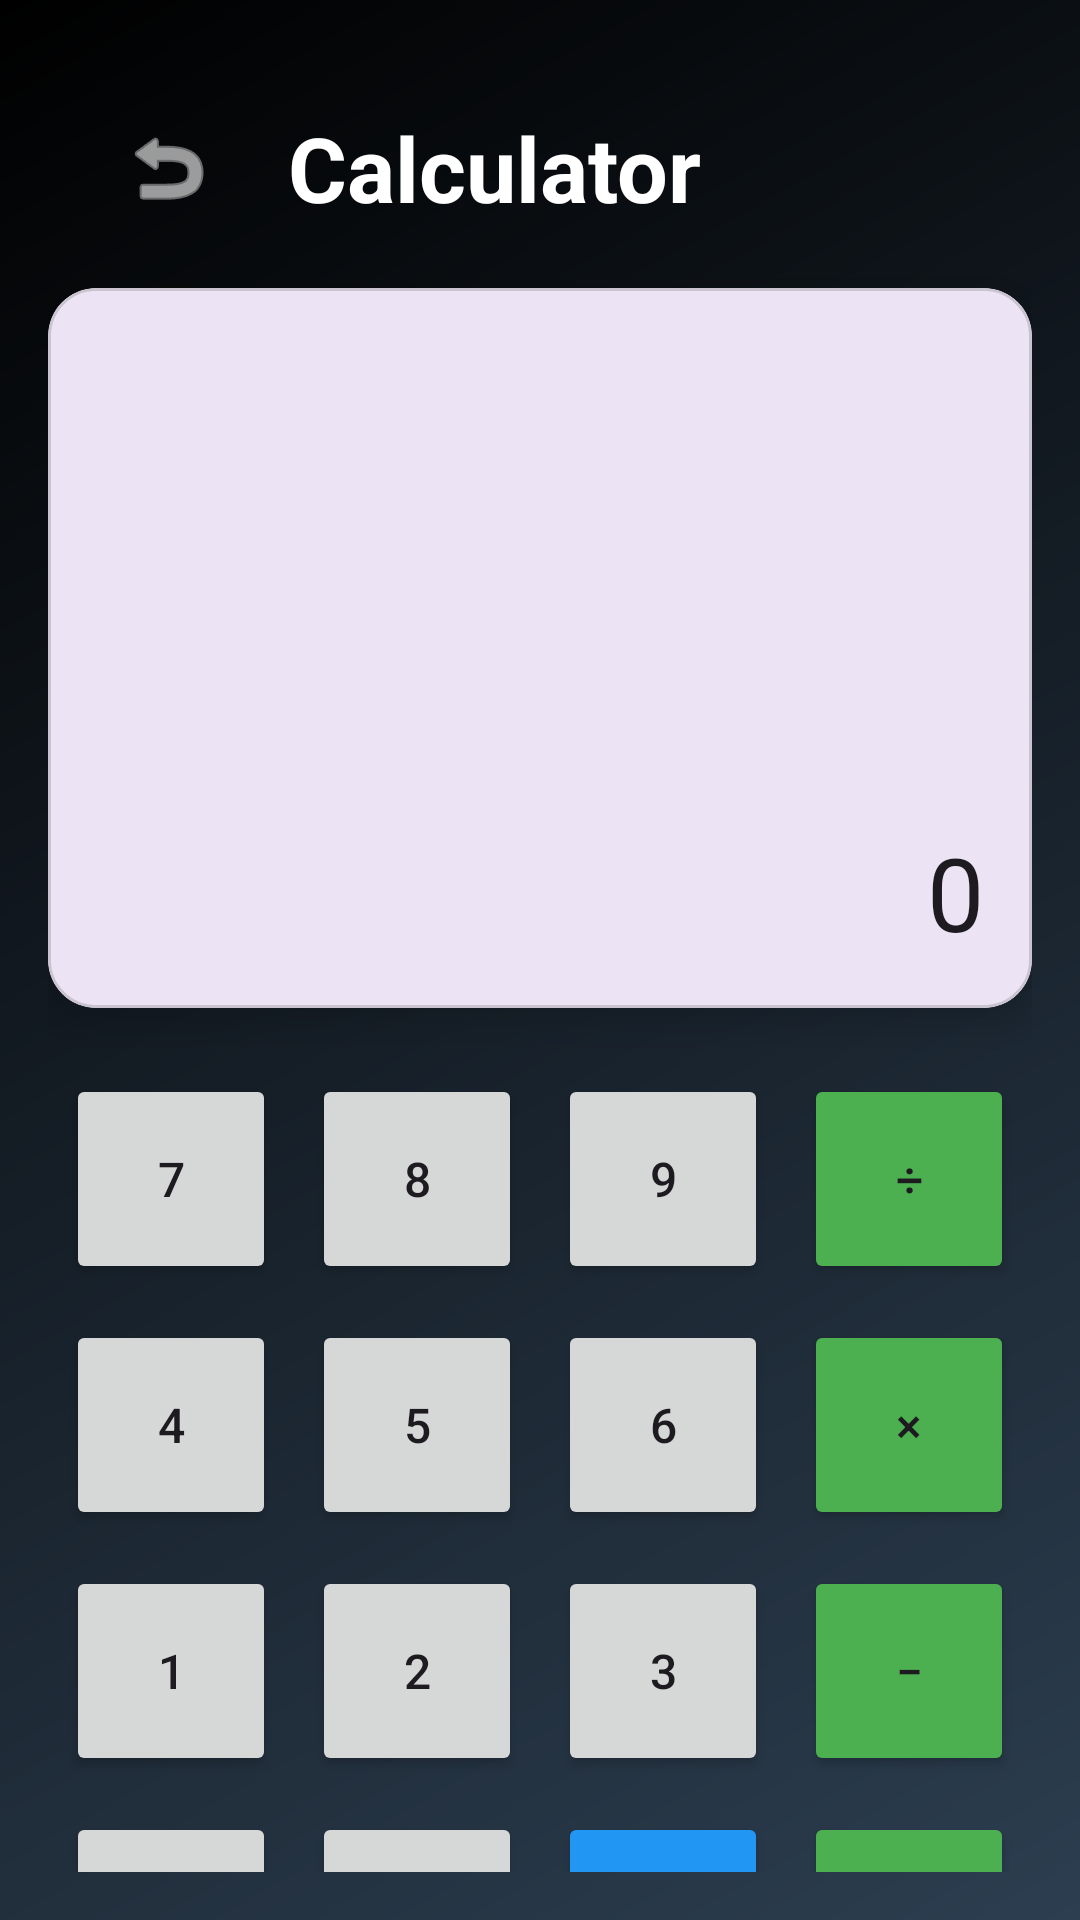

Icons on this 1080px x 1920px Android screen, each with its box as [x1=x1, y1=y1, x2=x2, y2=y2]:
revert: [x1=135, y1=137, x2=204, y2=200]
